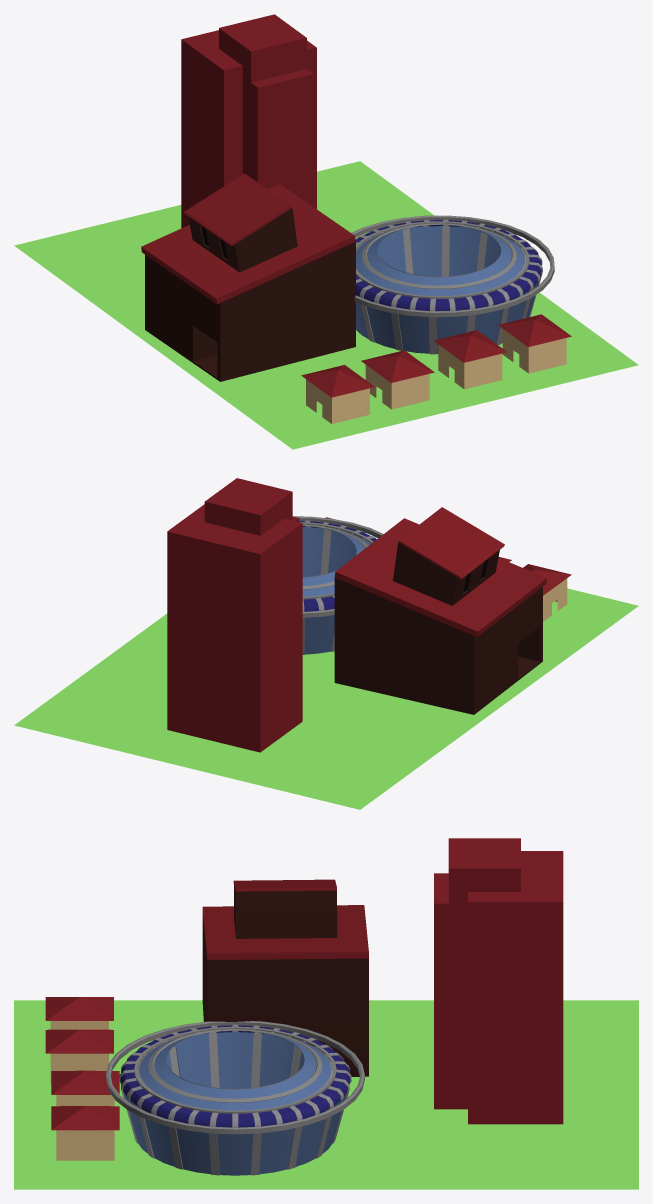
The model's file is cidade 2.fbx.
The picture shows the model from 3 angles, top to bottom: view 1: azimuth 30°, elevation 25°; view 2: azimuth 150°, elevation 25°; view 3: azimuth 270°, elevation 25°; orthographic projection. The views are drawn at different scales.
Visible parts, largest first — view 1: Plane.002; view 2: Plane.002; view 3: Plane.002.
Part boxes in pixels (<box>): Plane.002: <box>14,14,638,449</box>; Plane.002: <box>14,478,638,809</box>; Plane.002: <box>14,838,638,1189</box>.
Size of the model in its own units: 1240 by 755 by 1729.
